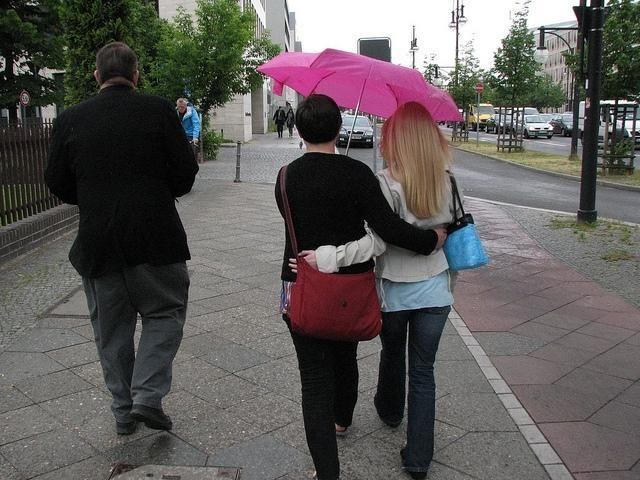bicycle: (189, 140, 199, 148)
car: (336, 115, 374, 148), (512, 115, 554, 139), (486, 114, 516, 134), (500, 108, 539, 123), (550, 114, 574, 136), (539, 114, 555, 125), (494, 107, 501, 116)
truck: (577, 99, 640, 146)
